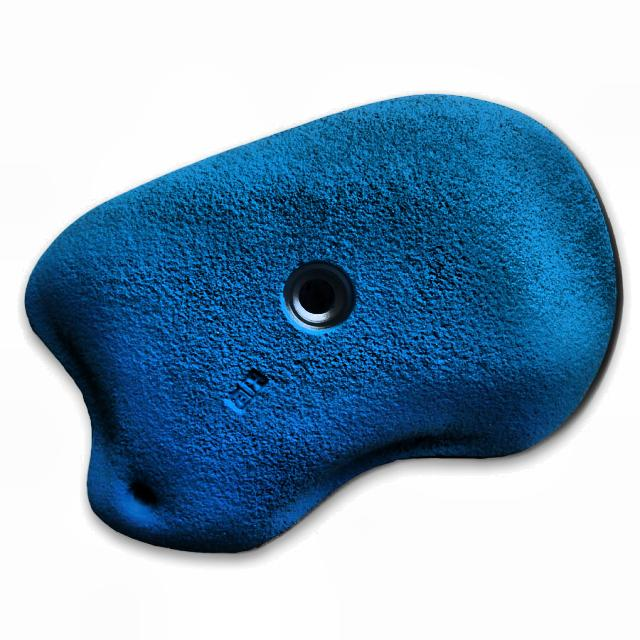Hold: (21, 95, 624, 562)
